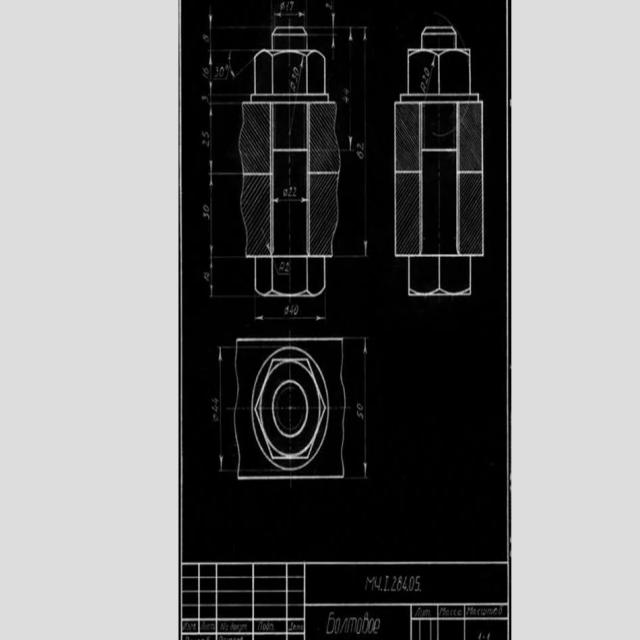marking_line: (341, 25, 369, 259), (346, 336, 370, 481), (207, 171, 240, 258), (216, 346, 235, 472), (208, 5, 257, 52), (208, 47, 251, 97), (207, 101, 236, 175), (254, 298, 328, 323), (341, 25, 355, 152), (208, 256, 245, 300), (308, 1, 336, 30), (273, 10, 306, 26), (308, 33, 338, 49), (424, 56, 436, 95), (327, 32, 338, 62), (296, 56, 304, 93), (274, 196, 307, 204)
numeric: (414, 576, 421, 592), (375, 576, 382, 591), (383, 575, 389, 592), (391, 575, 397, 592), (397, 575, 403, 591), (409, 576, 415, 591), (356, 410, 364, 421), (403, 576, 408, 591), (204, 270, 210, 282), (343, 95, 350, 105), (202, 129, 209, 139), (294, 67, 300, 78), (356, 401, 363, 410), (357, 150, 364, 159), (357, 142, 364, 151), (343, 86, 350, 95), (294, 304, 299, 316), (211, 406, 219, 413), (220, 64, 224, 78), (203, 212, 210, 220), (289, 305, 294, 316), (288, 186, 293, 197), (214, 66, 219, 77), (292, 74, 298, 83), (202, 66, 208, 75), (424, 67, 429, 77), (202, 35, 208, 43), (203, 204, 209, 212), (423, 75, 428, 84), (293, 186, 297, 197), (212, 398, 219, 404), (202, 95, 208, 102), (203, 140, 210, 146), (290, 0, 294, 10), (286, 2, 290, 11)
special_symbol: (274, 259, 290, 276), (285, 305, 290, 318), (213, 414, 219, 423), (283, 188, 288, 197), (280, 1, 285, 10), (225, 63, 228, 70)
